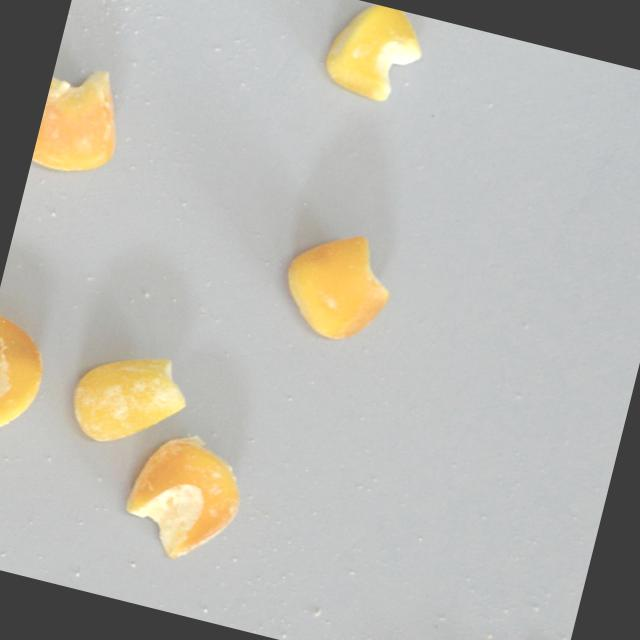no_canjicado: (271, 220, 401, 351)
pelicula: (114, 426, 253, 572), (64, 337, 196, 461), (29, 55, 132, 181), (319, 0, 433, 109), (0, 312, 54, 443)
